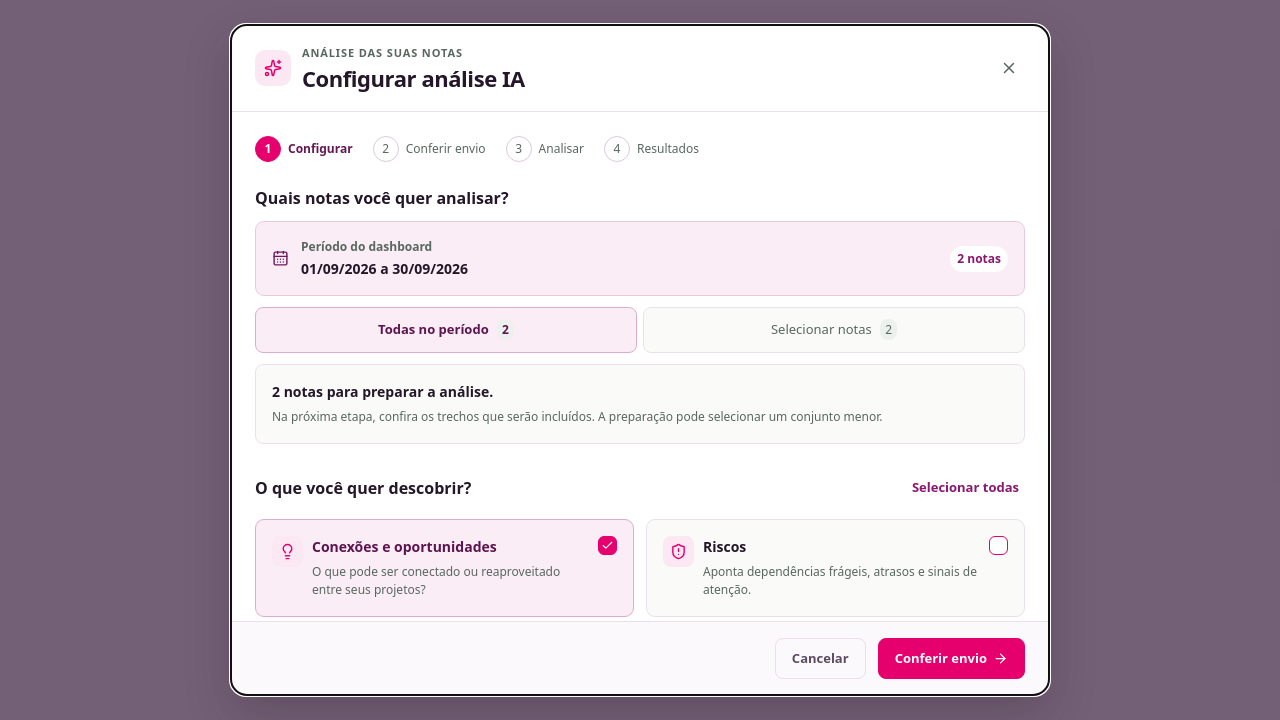
Test case: analysis launcher › blocks an empty selection or no objectives
Later steps or results of the test are not shown.
Step 1. Click the button "Conexões e oportunidades" → (444, 568), box [255,519,634,617]
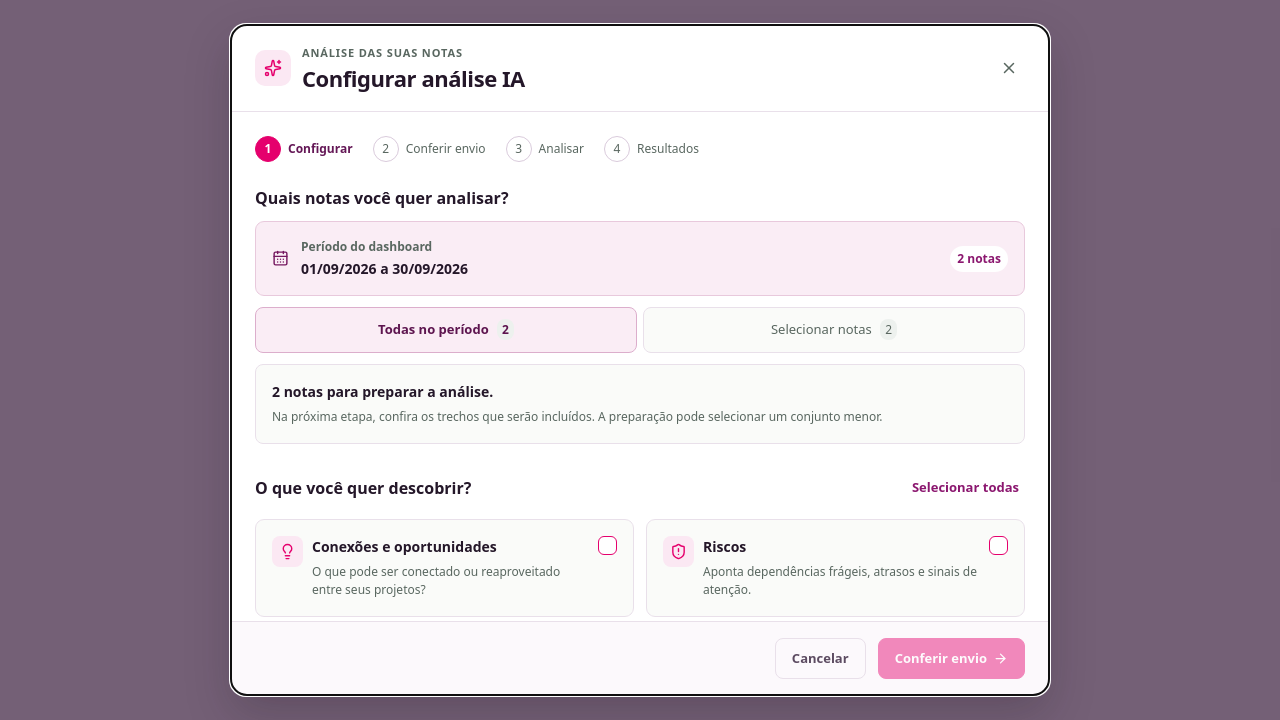
Now the button "Conferir envio" is disabled, box [878,638,1025,679]
Step 2. Click the button "Riscos" → (836, 568), box [646,519,1025,617]
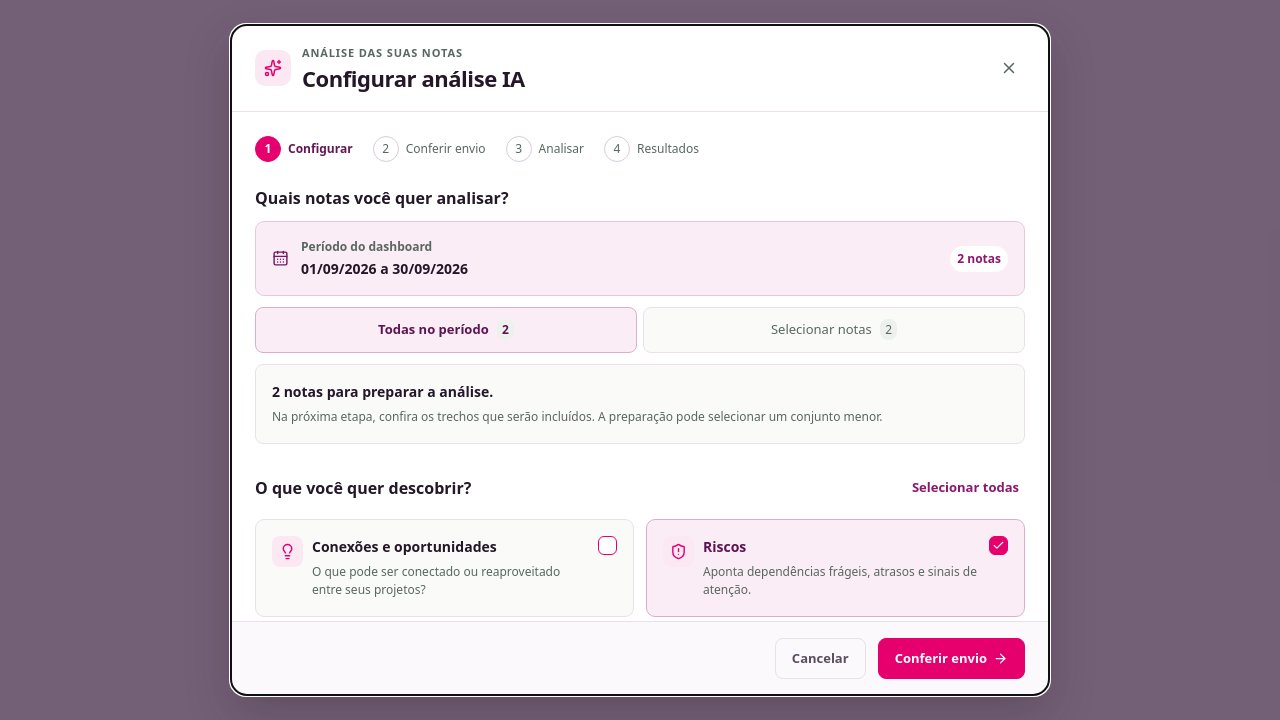
Step 3. Click the tab "Selecionar notas 2" → (834, 330), box [643,308,1025,353]
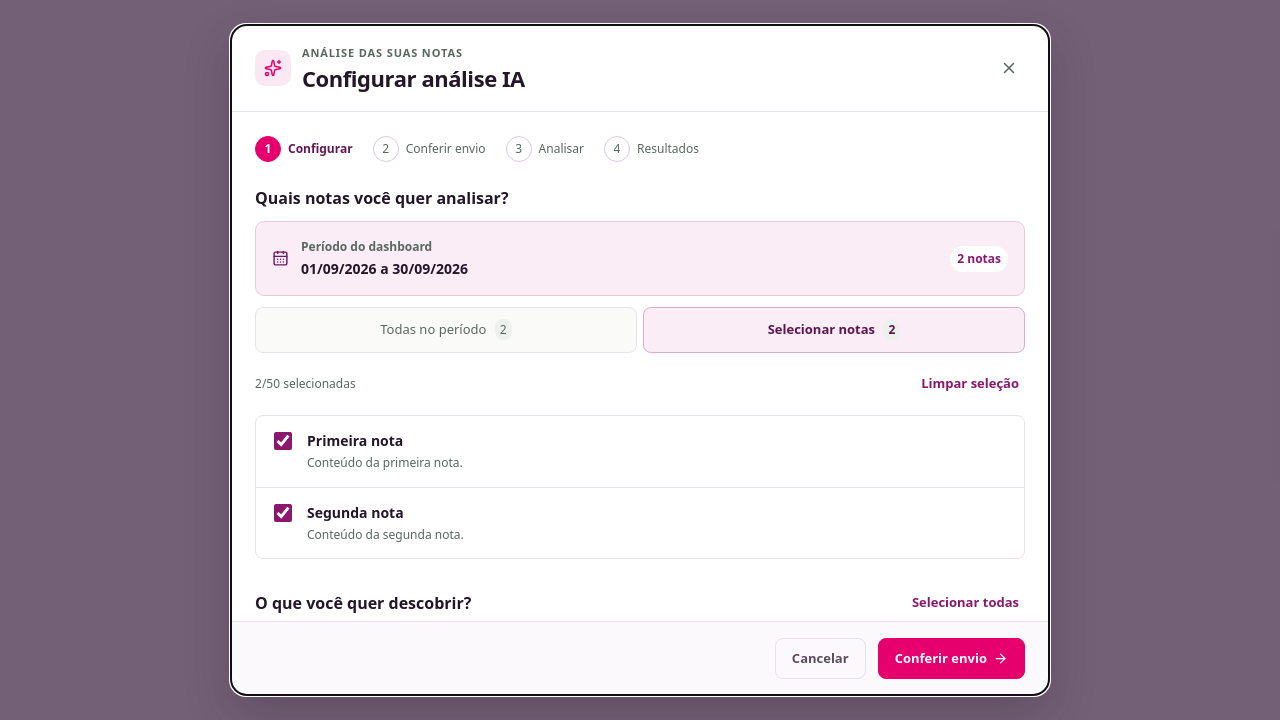
Step 4. Click the button "Limpar seleção" → (970, 384), box [915,364,1025,404]
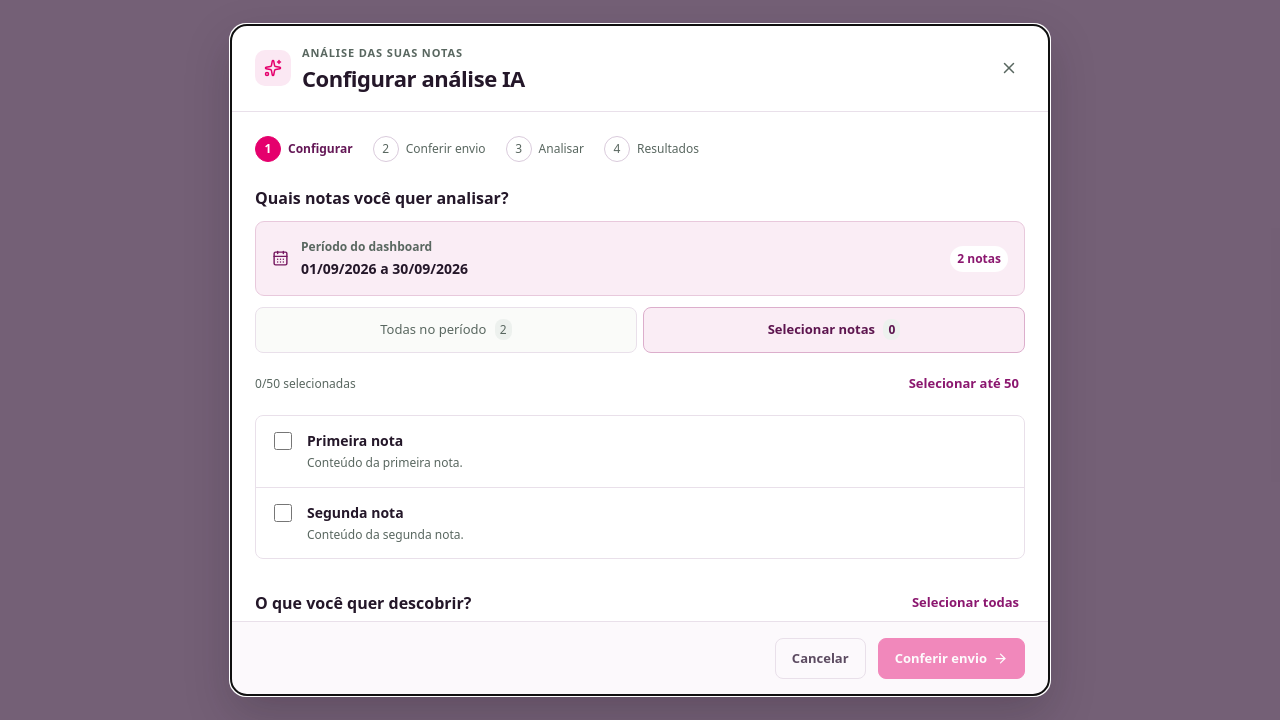
Now the button "Conferir envio" is disabled, box [878,638,1025,679]
